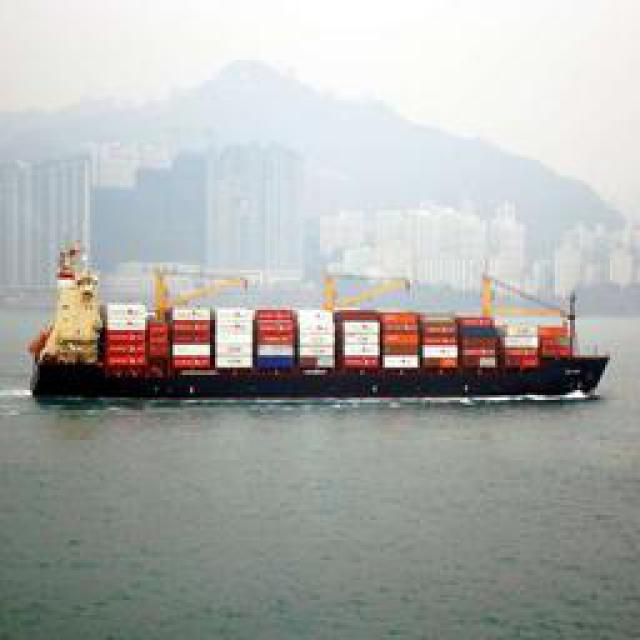Ship: (16, 266, 626, 414)
